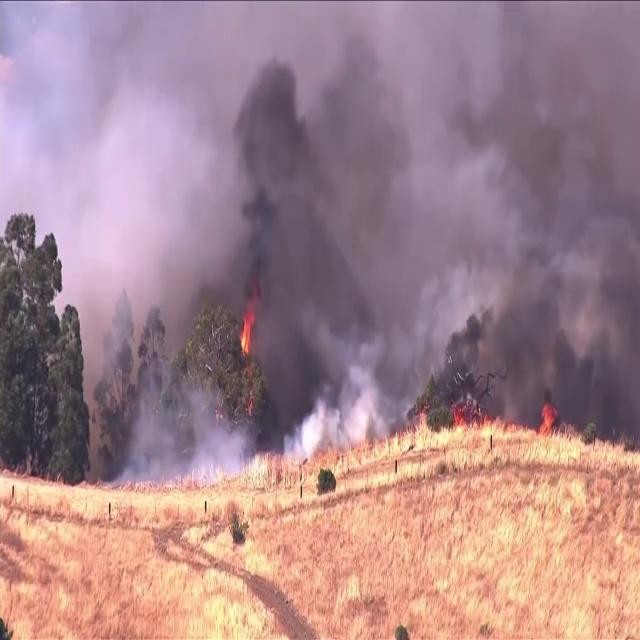Fire: (235, 310, 252, 354)
Smoke: (9, 2, 640, 455)
